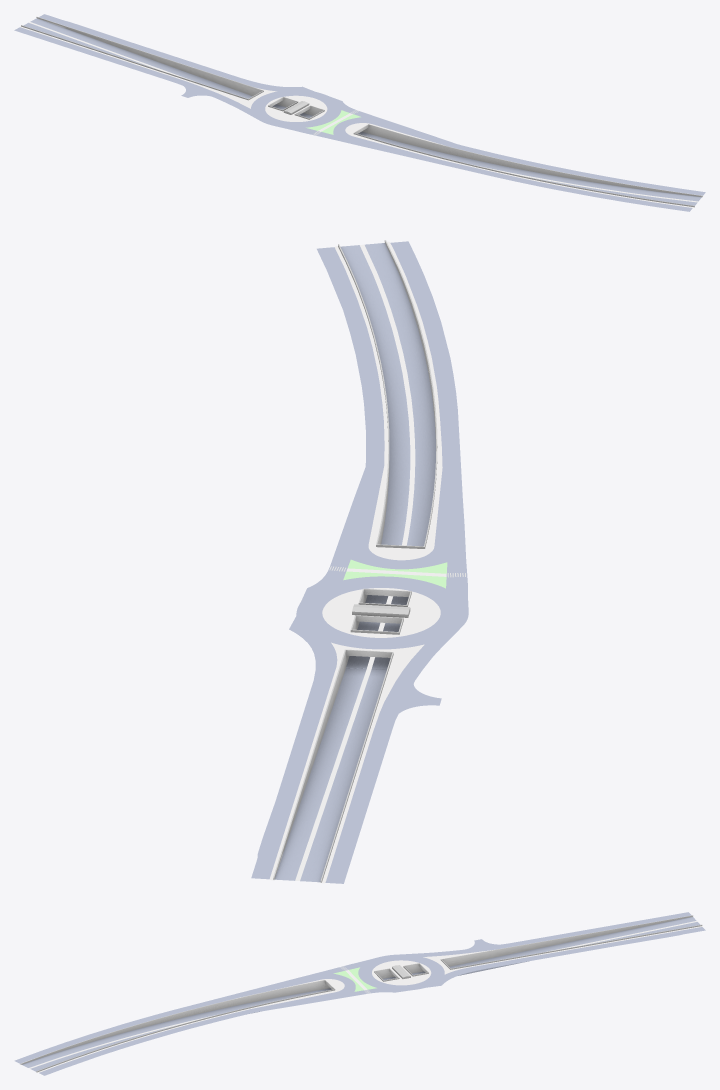
File: Saina-Toraigyrov.glb
The picture shows the model from 3 angles, top to bottom: view 1: azimuth 30°, elevation 25°; view 2: azimuth 150°, elevation 25°; view 3: azimuth 270°, elevation 25°; orthographic projection. The views are drawn at different scales.
Parts seen in each view (by area): view 1: group_4, group_1, group_7.004, group_8.001; view 2: group_4, group_7.004, group_1, group_8.001; view 3: group_4, group_1, group_7.004, group_8.001.
Boxes of the visible parts, x1,y1,x2,y2 form: group_4: (14, 14, 705, 211); group_1: (21, 16, 702, 207); group_7.004: (20, 22, 703, 207); group_8.001: (306, 110, 360, 134); group_4: (251, 241, 468, 883); group_7.004: (269, 241, 446, 883); group_1: (273, 240, 437, 882); group_8.001: (343, 559, 447, 588); group_4: (14, 912, 705, 1075); group_1: (20, 915, 702, 1072); group_7.004: (19, 921, 702, 1072); group_8.001: (333, 967, 376, 991).
Size of the model in its own units: 314 by 9 by 561.
5 materials, 2 textured.
